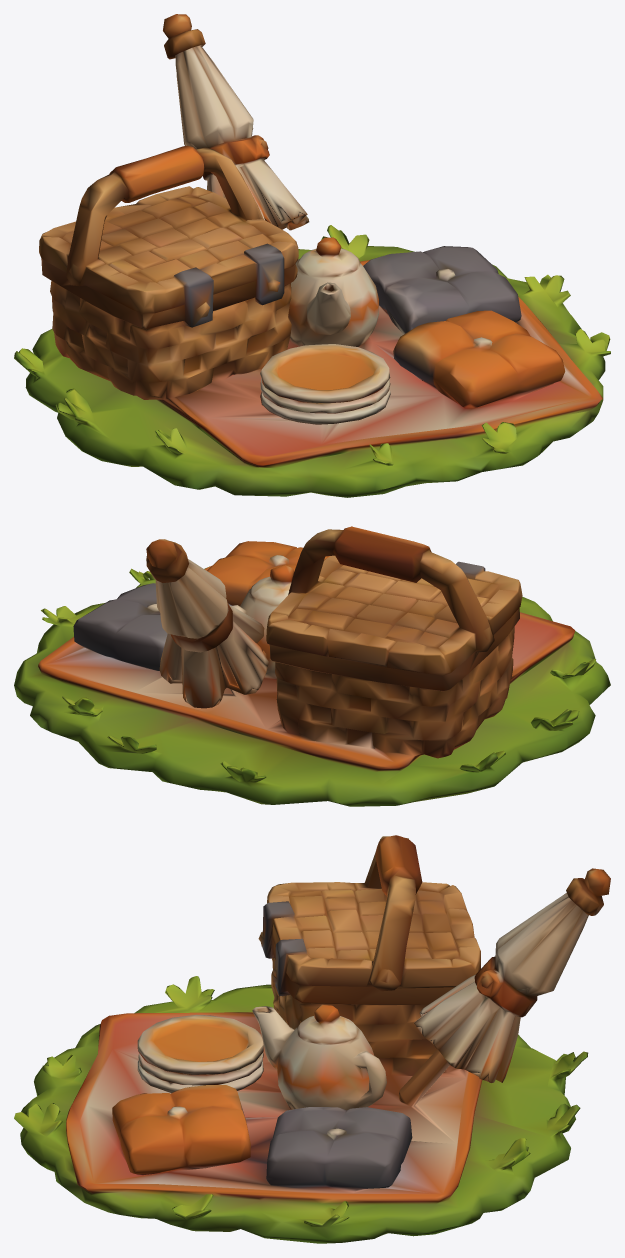
File: picnic-BxTfZGNs.glb
3 renders of one model, top to bottom at view 1: azimuth 30°, elevation 25°; view 2: azimuth 150°, elevation 25°; view 3: azimuth 270°, elevation 25°, orthographic.
Visible parts, largest first — view 1: tripo_node_6d8e62c2-48b9-42f7-9276-e68bfb6dadda; view 2: tripo_node_6d8e62c2-48b9-42f7-9276-e68bfb6dadda; view 3: tripo_node_6d8e62c2-48b9-42f7-9276-e68bfb6dadda.
Part boxes in pixels (x1=…): tripo_node_6d8e62c2-48b9-42f7-9276-e68bfb6dadda: x1=14, y1=14, x2=610, y2=497; tripo_node_6d8e62c2-48b9-42f7-9276-e68bfb6dadda: x1=14, y1=526, x2=610, y2=806; tripo_node_6d8e62c2-48b9-42f7-9276-e68bfb6dadda: x1=14, y1=835, x2=610, y2=1243.
Bounding box in the file's own units: 0.9759 × 0.4683 × 0.9775.
